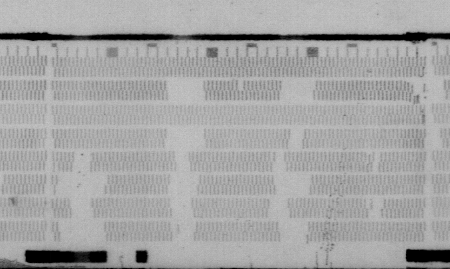Broken hole: (167, 173, 199, 244), (164, 77, 207, 103), (54, 177, 106, 197), (273, 172, 312, 198), (59, 223, 107, 243), (277, 78, 317, 101), (166, 127, 206, 148), (278, 219, 309, 242), (68, 198, 96, 218), (286, 127, 308, 150), (269, 196, 292, 218), (72, 150, 92, 174), (175, 150, 193, 173), (434, 78, 448, 101), (272, 152, 288, 172), (431, 127, 445, 149), (371, 155, 382, 173), (235, 79, 246, 91)
Oblique printing: (407, 78, 426, 102), (363, 198, 385, 218), (364, 150, 375, 164)
